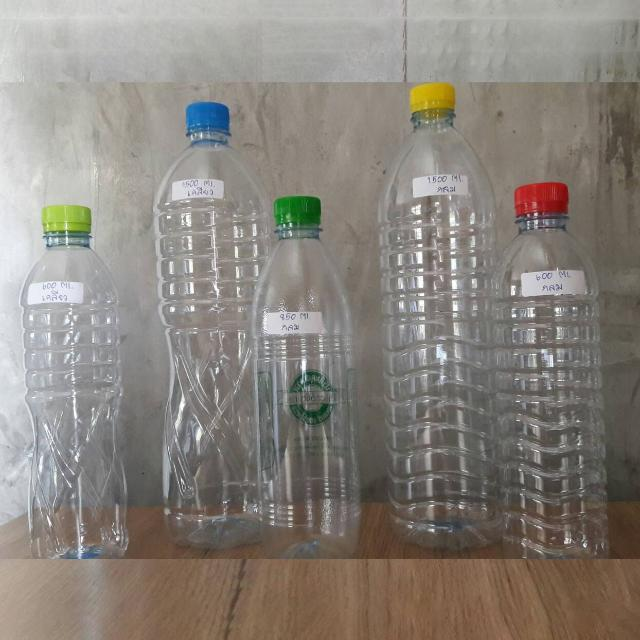Botella de plastico: (154, 93, 268, 547), (394, 75, 494, 545), (500, 183, 620, 567), (25, 208, 135, 558), (272, 195, 362, 558)
